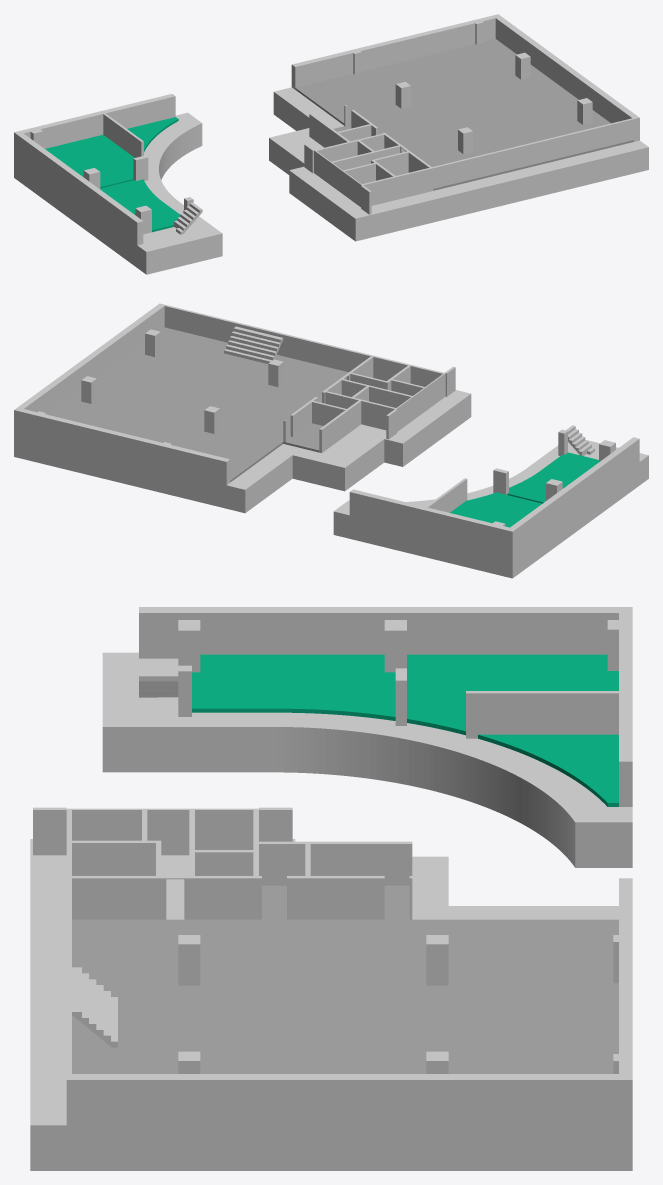
File: storey_00_125.glb
3 views of the same model, one above another, from view 1: azimuth 30°, elevation 25°; view 2: azimuth 150°, elevation 25°; view 3: azimuth 270°, elevation 25° (orthographic). The views are drawn at different scales.
Size of the model in its own units: 40.1 by 3.6 by 21.61.
